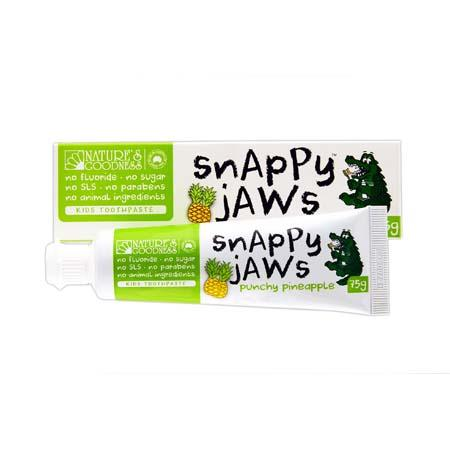toothpaste: (40, 210, 413, 335)
